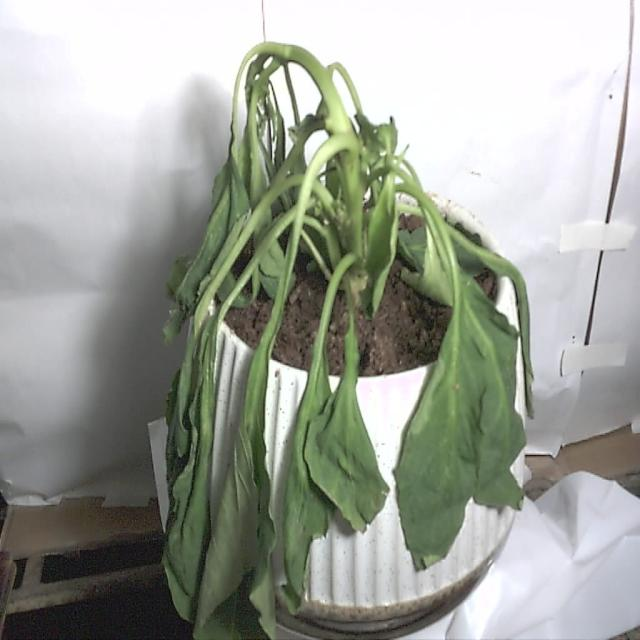Leaf: (193, 342, 279, 639), (392, 298, 481, 572)
